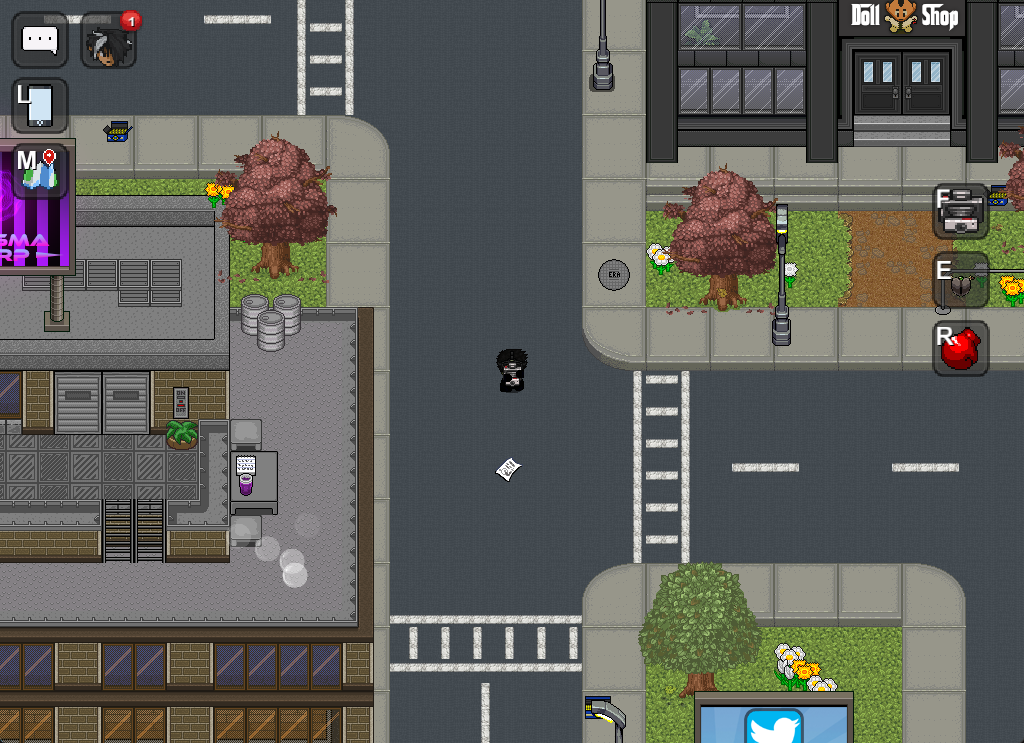era_rima-jobs-trash-paper: (493, 453, 525, 485)
